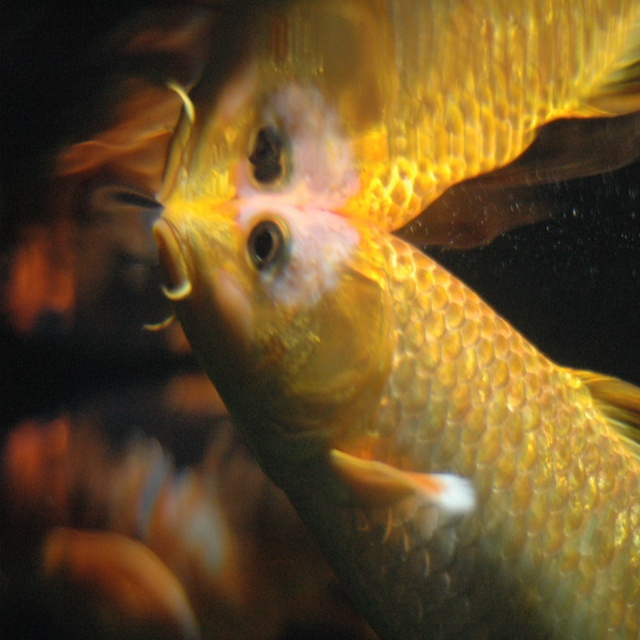Goldfish: (143, 195, 640, 640)
